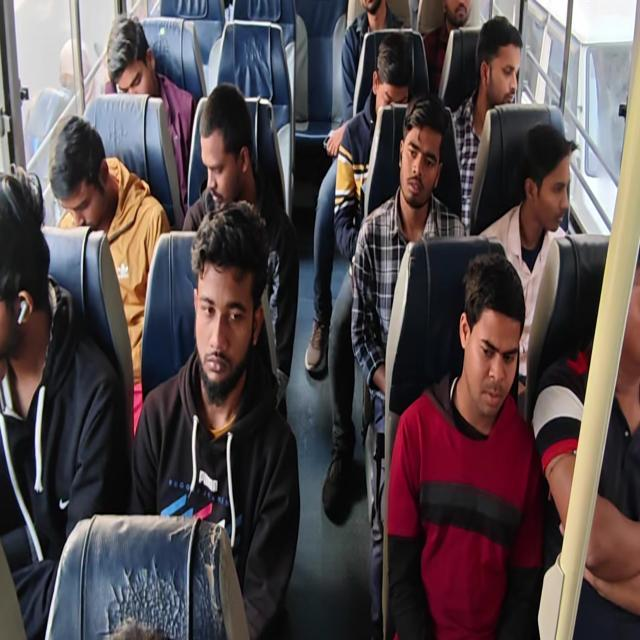person: (0, 172, 49, 381), (459, 277, 517, 415), (195, 229, 252, 365), (54, 131, 118, 244), (522, 128, 575, 242), (199, 101, 248, 212), (105, 17, 161, 112), (482, 30, 531, 123), (609, 233, 640, 357), (398, 115, 433, 207), (372, 50, 408, 124), (356, 0, 393, 28), (442, 0, 478, 28)
